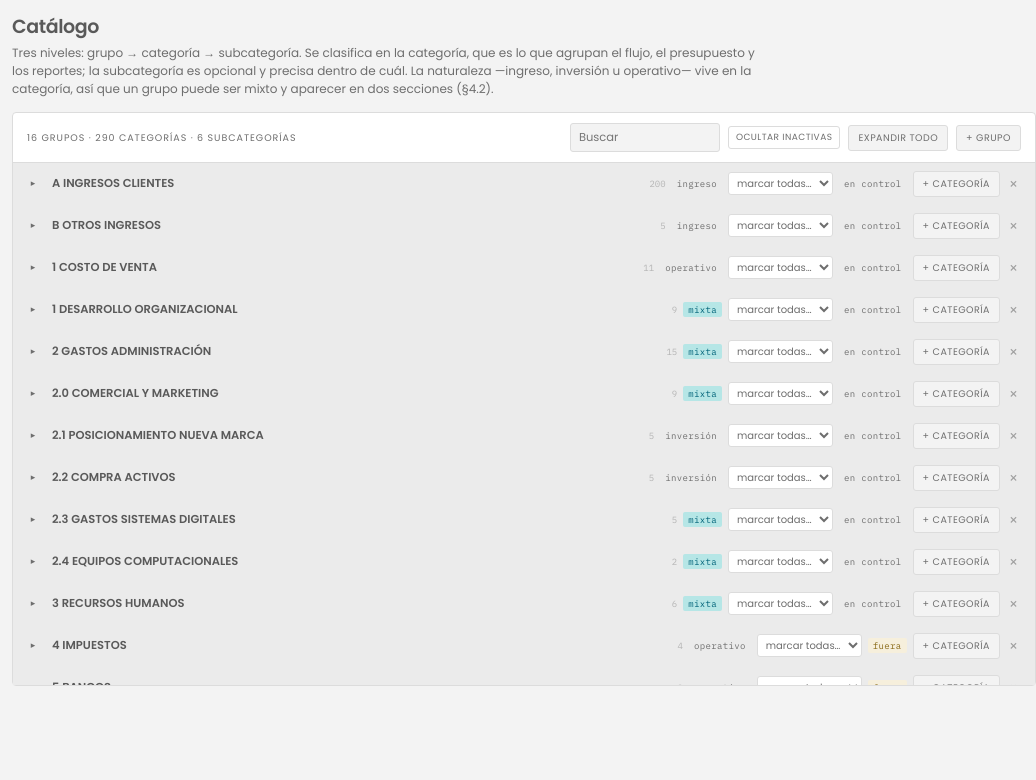
Test case: Catálogo › crear un grupo lo deja usable de inmediato
The image size is (1036, 780).
Click the button "+ grupo" at [989, 138], box [956,124,1021,150]
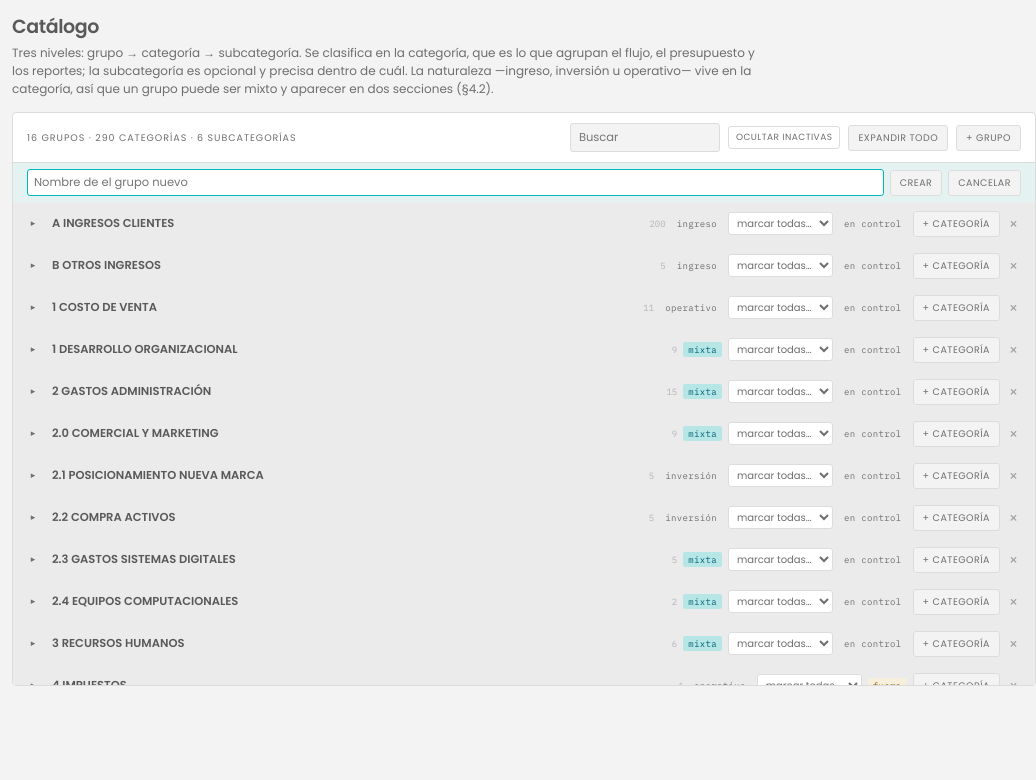
Type "Gastos de mudanza" into the field labelled "Nombre de el grupo nuevo" at [455, 182], box [27,169,884,196]
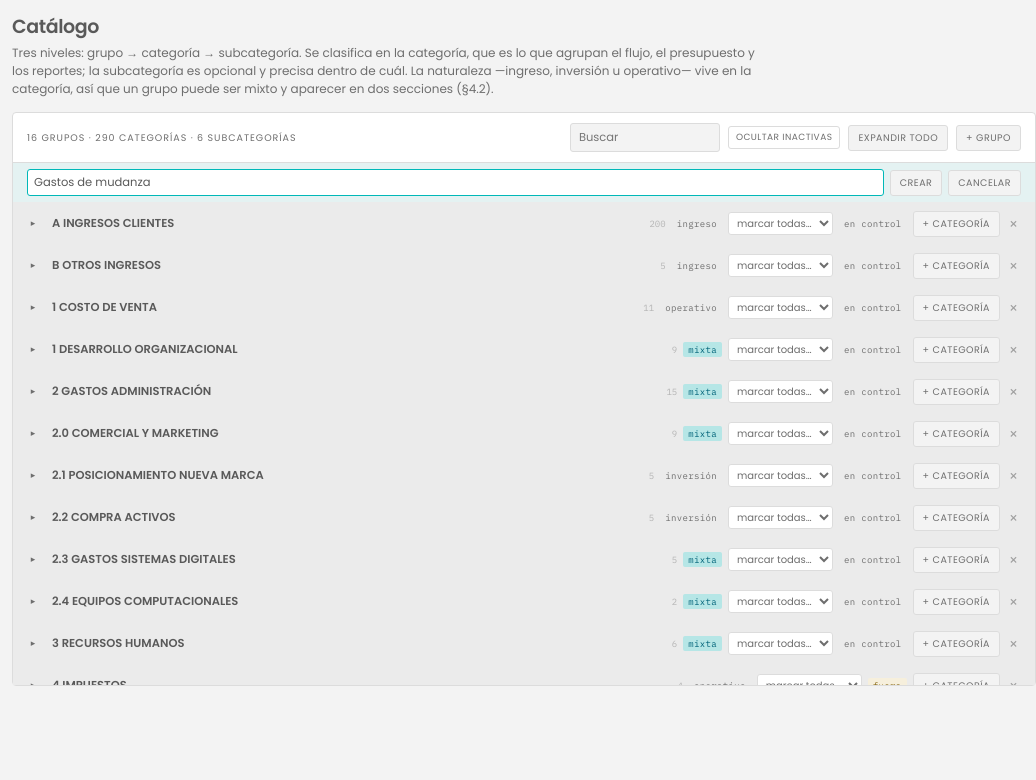
Click the button "Crear" at [916, 182], box [890,170,942,196]
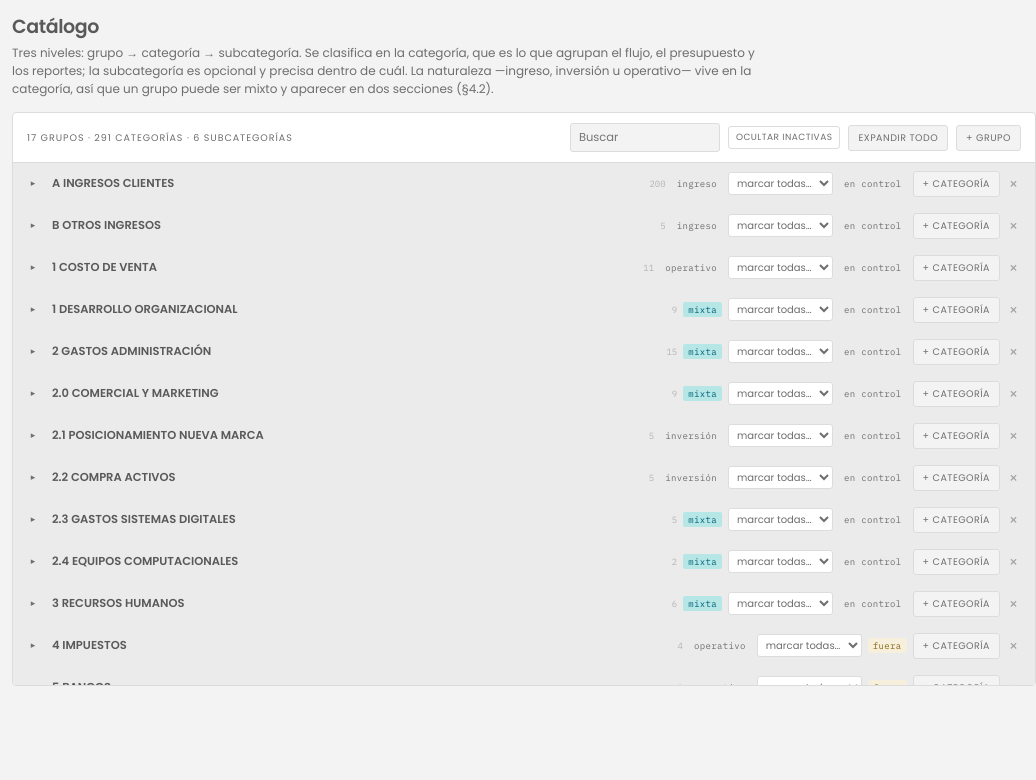
Type "mudanza" into the field named "Buscar en el catálogo" at [645, 138], box [570,123,720,152]
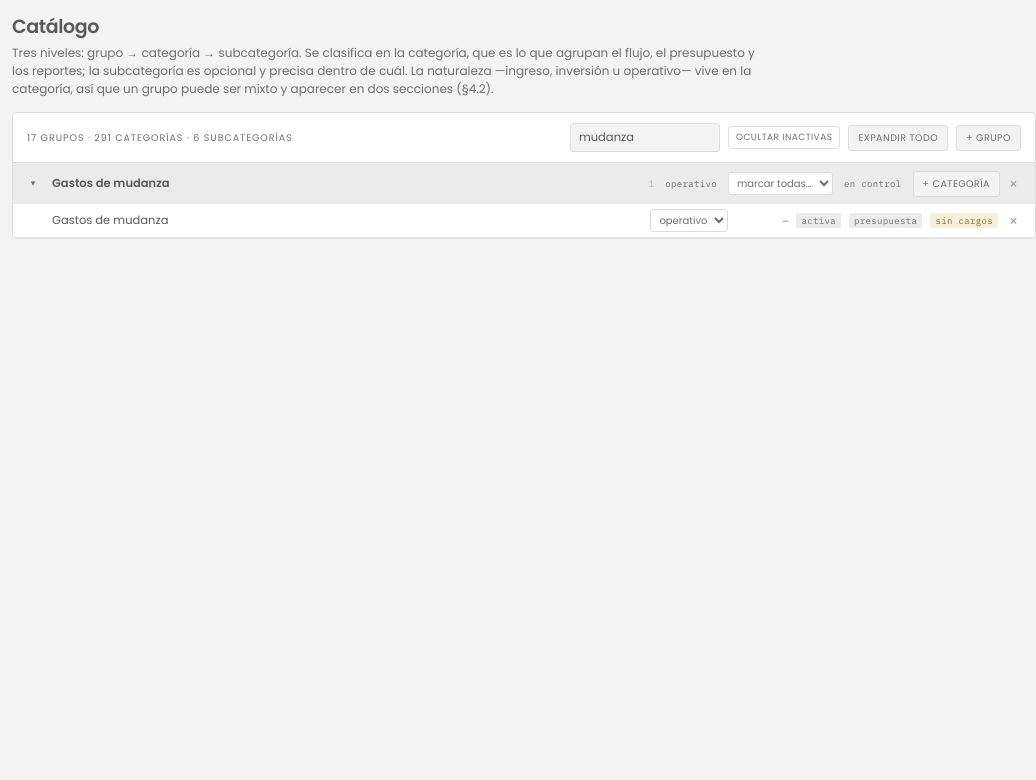
Check: the number of fields named "Nombre de Gastos de mudanza" is 2, box [45,170,643,197]; [45,207,642,234]
